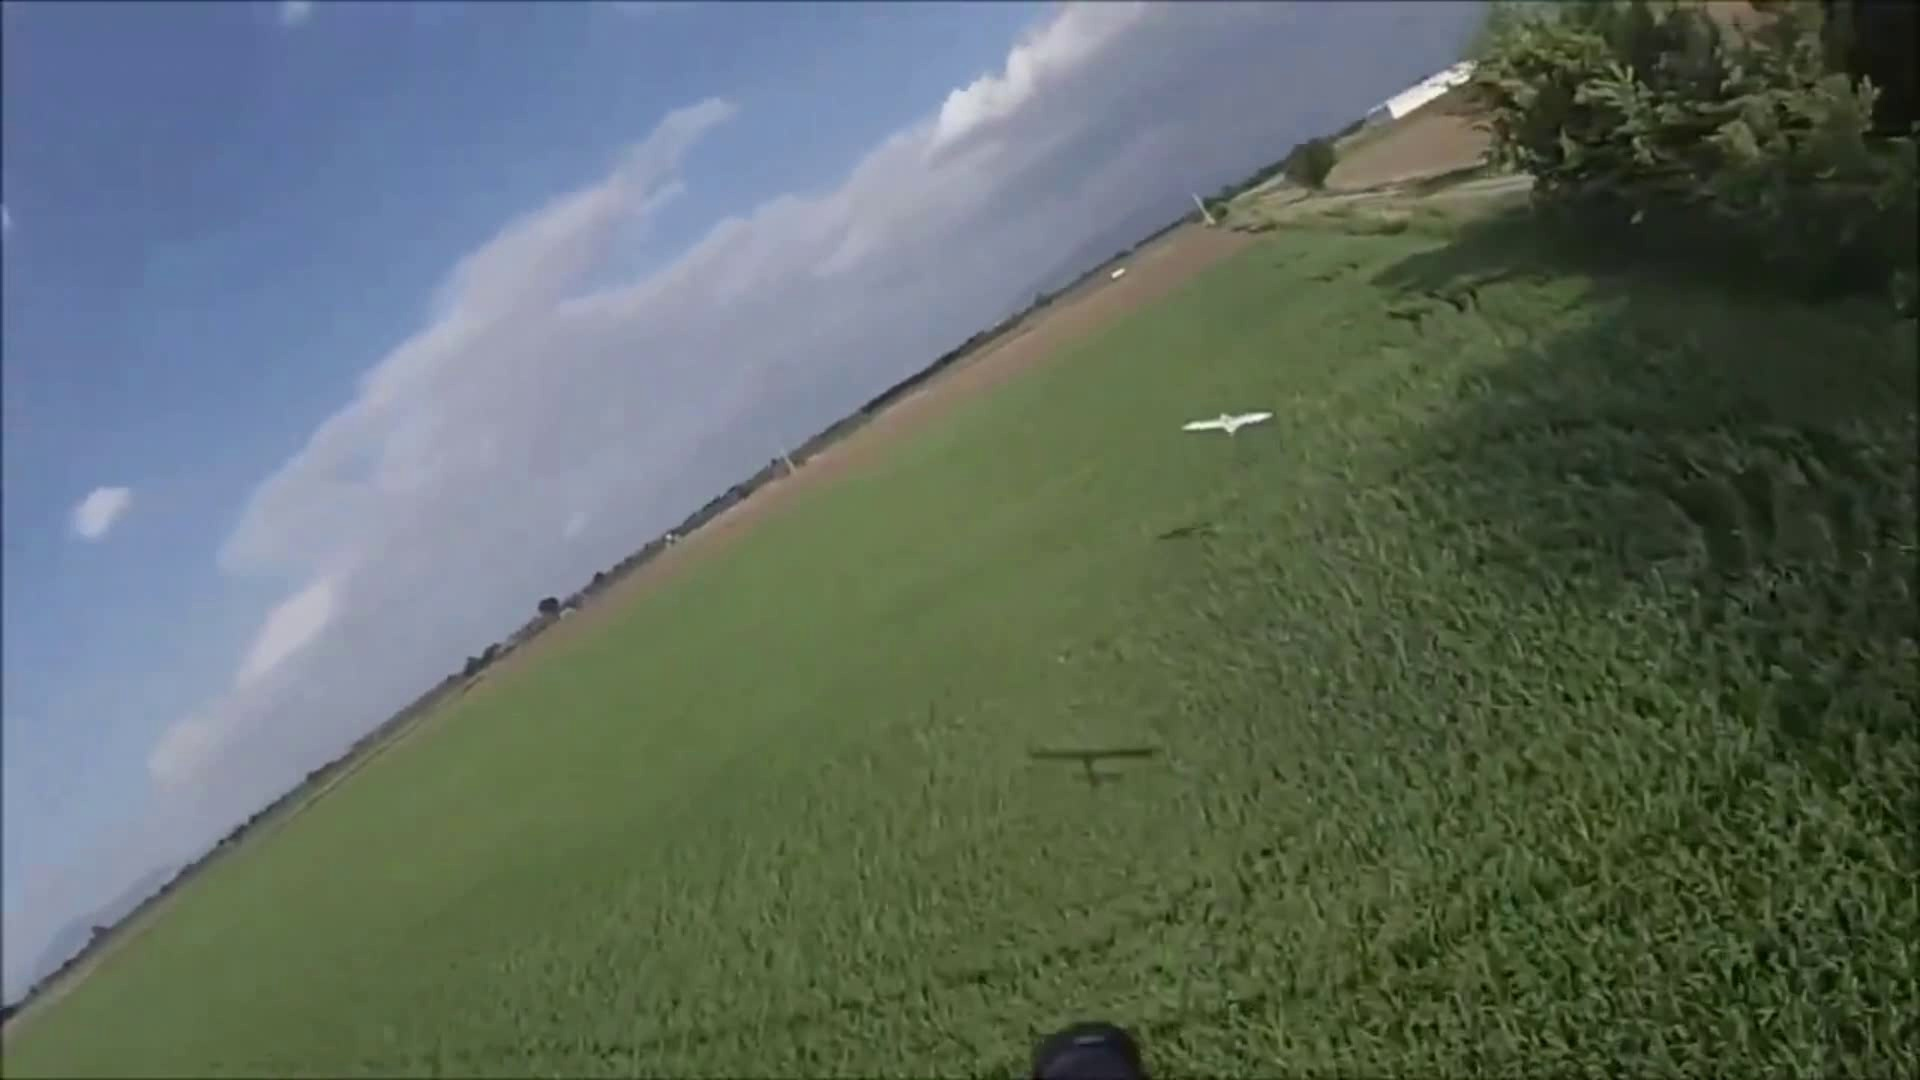airplane: (1182, 411, 1274, 436)
